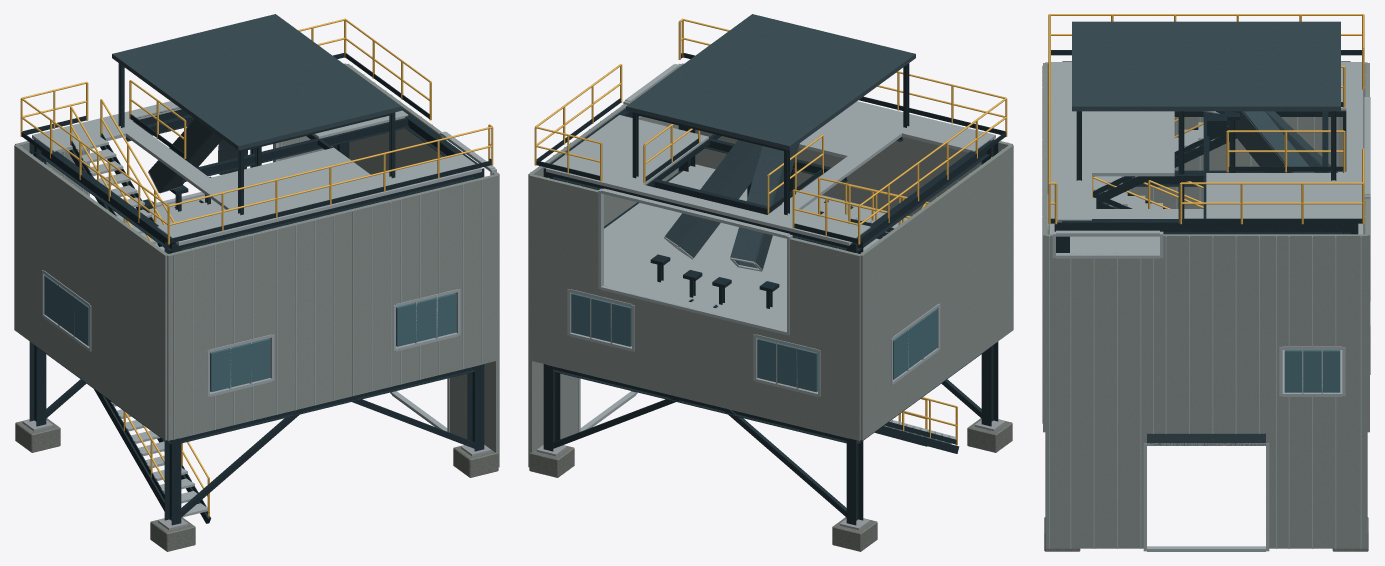
Rendered from mine-transfer-station.glb.
3 views of the same model, side by side, from view 1: azimuth 30°, elevation 25°; view 2: azimuth 150°, elevation 25°; view 3: azimuth 270°, elevation 25° (orthographic). The views are drawn at different scales.
Parts seen in each view (by area): view 1: Transport_wall, Transport_trim, Transport_steel, Transport_roof, Transport_safety, Transport_glass, Transport_concrete, Transport_machined; view 2: Transport_wall, Transport_trim, Transport_roof, Transport_steel, Transport_safety, Transport_glass, Transport_concrete, Transport_machined; view 3: Transport_wall, Transport_trim, Transport_roof, Transport_steel, Transport_safety, Transport_glass, Transport_concrete.
Part boxes in pixels (left/top/right/bottom): Transport_wall: left=14, top=63, right=499, bottom=467; Transport_trim: left=21, top=66, right=498, bottom=517; Transport_steel: left=21, top=53, right=491, bottom=525; Transport_roof: left=112, top=14, right=401, bottom=192; Transport_safety: left=20, top=18, right=493, bottom=516; Transport_glass: left=44, top=275, right=456, bottom=392; Transport_concrete: left=15, top=418, right=498, bottom=551; Transport_machined: left=22, top=419, right=491, bottom=530; Transport_wall: left=528, top=63, right=1013, bottom=467; Transport_trim: left=530, top=64, right=1008, bottom=443; Transport_roof: left=626, top=14, right=915, bottom=269; Transport_steel: left=536, top=53, right=1006, bottom=525; Transport_safety: left=534, top=18, right=1007, bottom=445; Transport_glass: left=571, top=293, right=937, bottom=392; Transport_concrete: left=529, top=418, right=1012, bottom=551; Transport_machined: left=536, top=419, right=1005, bottom=530; Transport_wall: left=1043, top=62, right=1369, bottom=548; Transport_trim: left=1042, top=62, right=1370, bottom=551; Transport_roof: left=1072, top=21, right=1340, bottom=445; Transport_steel: left=1050, top=50, right=1362, bottom=252; Transport_safety: left=1048, top=14, right=1364, bottom=224; Transport_glass: left=1284, top=350, right=1340, bottom=392; Transport_concrete: left=1044, top=517, right=1368, bottom=551.
Size of the model in its own units: 9.75 by 10.55 by 7.75.
Materials: 8 (4 with a texture image).
